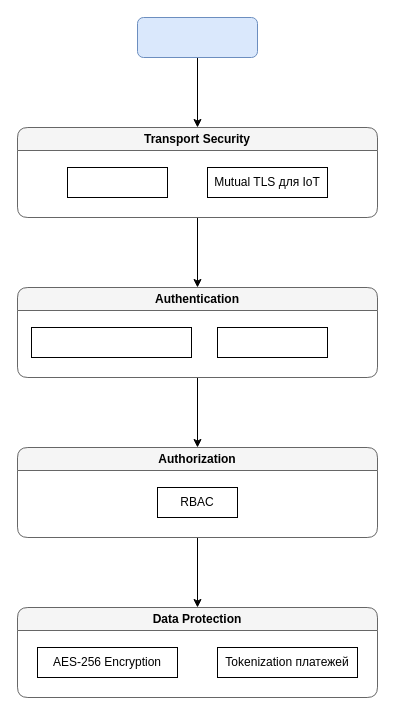
This 395x715 diagram has some shape labels left out. Each missing label, with the centre of its shape:
"Biometric Auth" belongs at (x=272, y=342).
"OAuth 2.0 / OpenID Connect" belongs at (x=111, y=342).
"TLS 1.3" belongs at (x=117, y=182).
"Устройство" belongs at (x=197, y=37).
